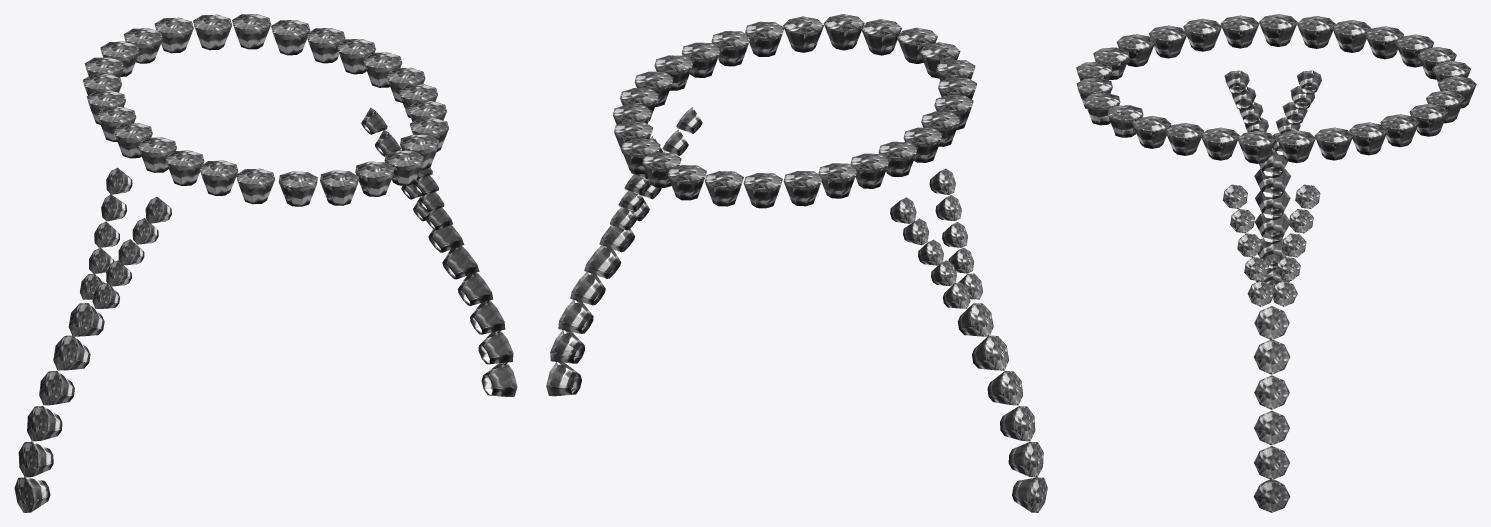
The model's file is blueRing_diamonds_0208.obj.
3 renders of one model, left to right at view 1: azimuth 30°, elevation 25°; view 2: azimuth 150°, elevation 25°; view 3: azimuth 270°, elevation 25°, orthographic. The views are drawn at different scales.
Visible parts, largest first — view 1: blueRing_Diamonds:blueRing_combined1 blueRing_Diamonds:polySurfa; view 2: blueRing_Diamonds:blueRing_combined1 blueRing_Diamonds:polySurfa; view 3: blueRing_Diamonds:blueRing_combined1 blueRing_Diamonds:polySurfa.
Boxes of the visible parts, x1,y1,x2,y2 form: blueRing_Diamonds:blueRing_combined1 blueRing_Diamonds:polySurfa: [14, 14, 517, 512]; blueRing_Diamonds:blueRing_combined1 blueRing_Diamonds:polySurfa: [546, 14, 1047, 512]; blueRing_Diamonds:blueRing_combined1 blueRing_Diamonds:polySurfa: [1076, 14, 1476, 512].
Size of the model in its own units: 29.53 by 20.64 by 22.86.
1 material, 1 textured.
